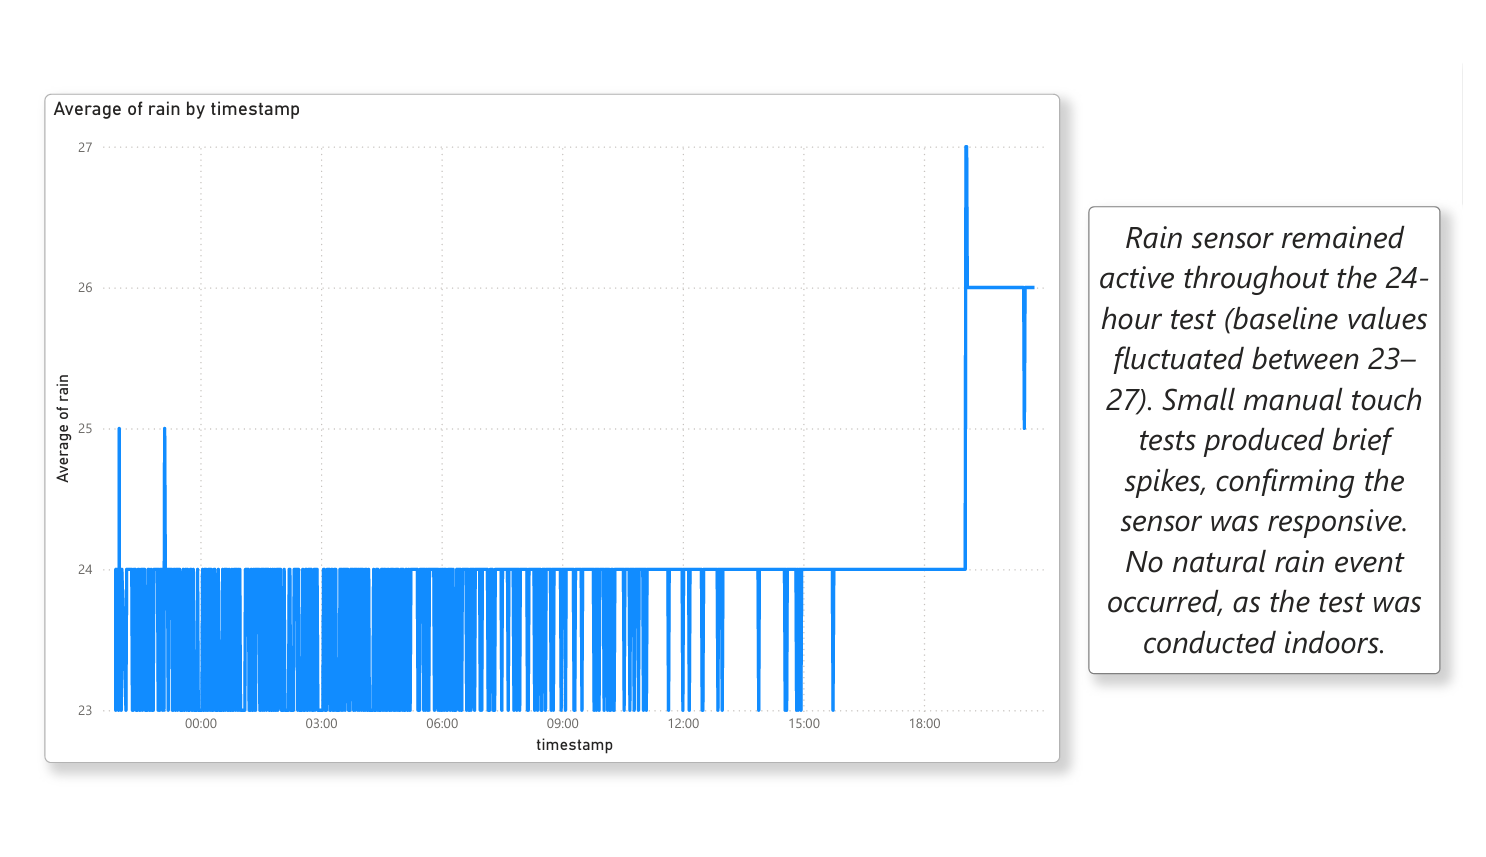

This screenshot's page, from the dashboard's own definition file:
{"tool":"powerbi","page":{"name":"Rain Sensor","canvas":[1280,720],"ordinal":3},"visuals":[{"type":"lineChart","fields":{"Y":["Avg(sensor_log.rain)"],"Category":["sensor_log.timestamp"]},"box":[19.2,62.4,903,594.4],"z":0},{"type":"textbox","box":[947.4,162.1,312.2,415.5],"z":1}]}

Visuals, with their boxes in screenshot pixels (x1, y1, x2, y2), scaled from the page's 1280x720 canvas onto the 1486x857 screenshot:
lineChart - Avg(sensor_log.rain) x sensor_log.timestamp: <box>22,74,1071,782</box>
textbox: <box>1100,193,1462,688</box>
